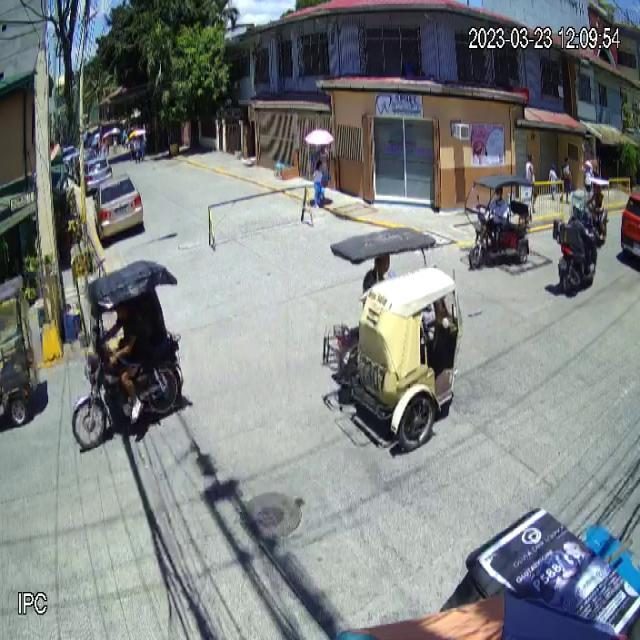Car: (94, 173, 144, 240)
Tricycle: (317, 227, 463, 447), (72, 259, 183, 449)
